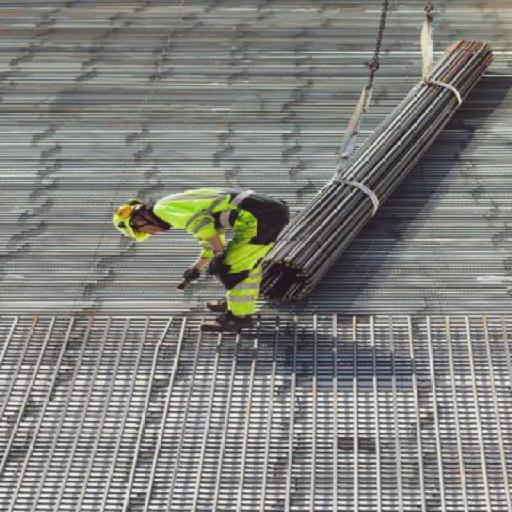person: (90, 174, 299, 342)
vest: (153, 182, 263, 236)
